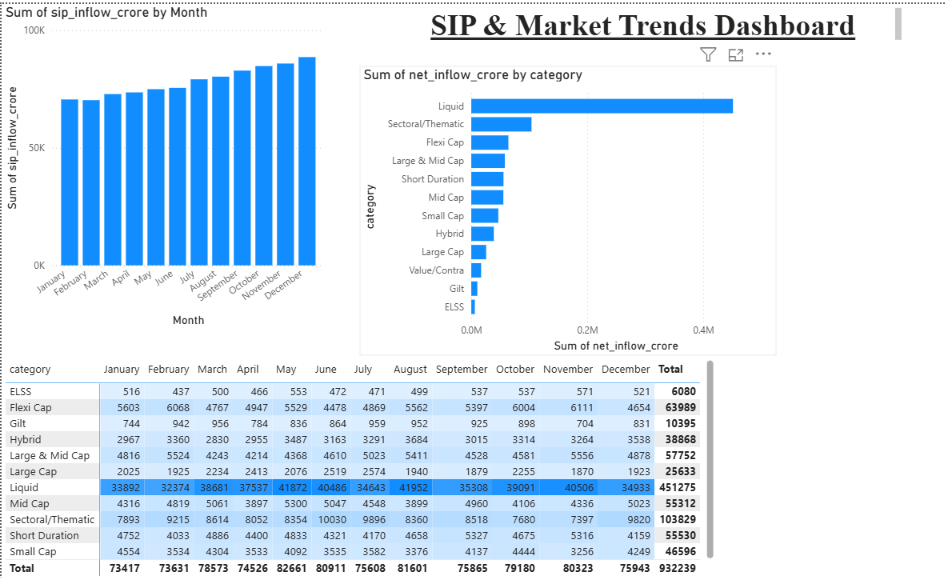

Layout of this report page (visuals, bound fields, positions):
{"tool":"powerbi","page":{"name":"SIP & Market Trends","canvas":[1280,720],"ordinal":3},"visuals":[{"type":"lineClusteredColumnComboChart","fields":{"Category":["04_monthly_sip_inflows.month.Variation.Date Hierarchy.Month"],"Y":["Sum(04_monthly_sip_inflows.sip_inflow_crore)"]},"box":[0,0,408.8,408.8],"z":0},{"type":"pivotTable","fields":{"Rows":["05_category_inflows.category"],"Columns":["05_category_inflows.month.Variation.Date Hierarchy.Month"],"Values":["Sum(05_category_inflows.net_inflow_crore)"]},"box":[0,440,895,280],"z":1000},{"type":"clusteredBarChart","fields":{"Category":["05_category_inflows.category"],"Y":["Sum(05_category_inflows.net_inflow_crore)"]},"box":[447.5,77.5,521.2,362.5],"z":2000},{"type":"textbox","box":[531.2,0,598.8,51.2],"z":2001}]}

Visuals, with their boxes on the page's 1280x720 design canvas (x1, y1, x2, y2). These are canvas units, not pixel positions in the 946x578 screenshot, which may show the page scaled, cropped or inside an application window:
lineClusteredColumnComboChart - 04_monthly_sip_inflows.month.Variation.Date Hierarchy.Month x Sum(04_monthly_sip_inflows.sip_inflow_crore): 0 0 409 409
pivotTable - 05_category_inflows.category x 05_category_inflows.month.Variation.Date Hierarchy.Month: 0 440 895 720
clusteredBarChart - 05_category_inflows.category x Sum(05_category_inflows.net_inflow_crore): 448 78 969 440
textbox: 531 0 1130 51
